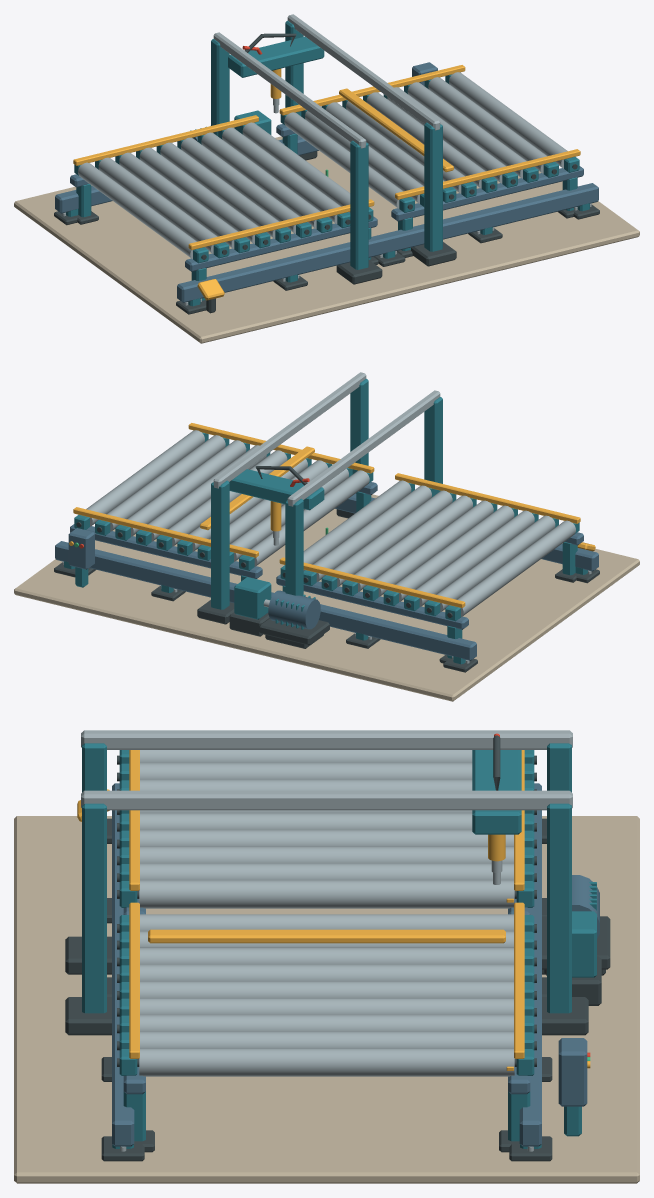
File: CS-PLATE-06-lod2.glb
3 renders of one model, top to bottom at view 1: azimuth 30°, elevation 25°; view 2: azimuth 150°, elevation 25°; view 3: azimuth 270°, elevation 25°, orthographic. The views are drawn at different scales.
Visible parts, largest first — view 1: foundation, right_bed_beam, entry_table_idler_0, exit_right_pillar, entry_right_pillar, entry_table_idler_7, entry_table_idler_2, exit_table_idler_7, entry_table_idler_4, entry_table_idler_1, entry_table_idler_3, entry_table_idler_6 (+25 smaller); view 2: foundation, left_bed_beam, entry_table_idler_0, exit_left_pillar, entry_table_idler_7, entry_table_idler_2, exit_table_idler_7, entry_table_idler_4, entry_table_idler_1, entry_table_idler_3, entry_table_idler_6, exit_table_idler_6 (+29 smaller); view 3: foundation, exit_table_idler_8, entry_table_idler_8, exit_gantry_rail, entry_gantry_rail, exit_table_idler_2, exit_table_idler_3, exit_table_idler_7, entry_table_idler_7, entry_table_idler_6, exit_table_idler_4, exit_table_idler_5 (+33 smaller).
Part boxes in pixels (x1,y1,x2,y2): foundation: (14,136,639,343); right_bed_beam: (177,183,598,302); entry_table_idler_0: (78,162,196,259); exit_right_pillar: (424,122,442,251); entry_right_pillar: (350,140,368,269); entry_table_idler_7: (222,127,340,223); entry_table_idler_2: (119,152,237,248); exit_table_idler_7: (428,77,546,173); entry_table_idler_4: (160,142,278,238); entry_table_idler_1: (98,157,217,253); entry_table_idler_3: (139,147,258,243); entry_table_idler_6: (201,132,319,228); foundation: (14,494,639,701); left_bed_beam: (55,541,476,660); entry_table_idler_0: (457,520,575,617); exit_left_pillar: (211,480,229,609); entry_table_idler_7: (313,485,431,581); entry_table_idler_2: (416,510,534,606); exit_table_idler_7: (107,435,225,531); entry_table_idler_4: (375,500,493,596); entry_table_idler_1: (436,515,555,611); entry_table_idler_3: (395,505,514,601); entry_table_idler_6: (334,490,452,586); exit_table_idler_6: (127,440,246,536); foundation: (14,816,639,1183); exit_table_idler_8: (139,1048,514,1076); entry_table_idler_8: (139,880,514,908); exit_gantry_rail: (81,790,572,810); entry_gantry_rail: (81,730,572,749); exit_table_idler_2: (140,947,513,964); exit_table_idler_3: (140,964,513,981); exit_table_idler_7: (140,1031,513,1048); entry_table_idler_7: (140,863,513,880); entry_table_idler_6: (140,846,513,863); exit_table_idler_4: (140,981,513,997); exit_table_idler_5: (140,998,513,1014).
Bounding box in the file's own units: 9.5 × 3.21 × 7.
